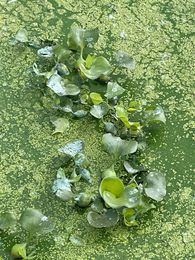water_hyacinth: (14, 23, 169, 242)
